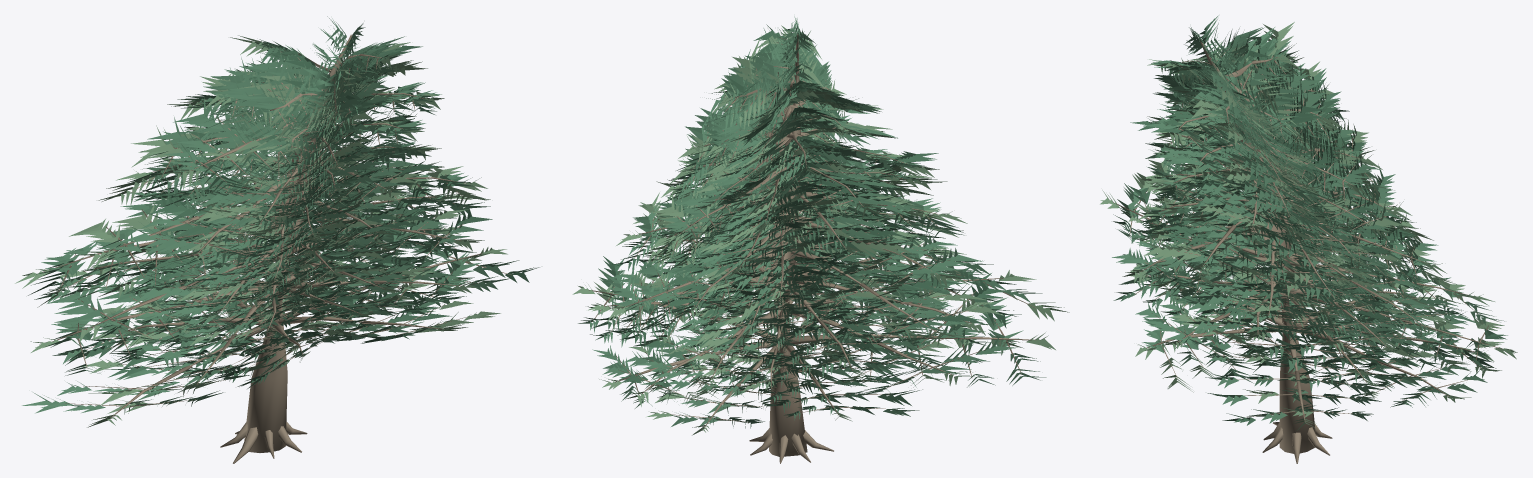
Rendered from cedar_8.glb.
3 renders of one model, left to right at view 1: azimuth 30°, elevation 25°; view 2: azimuth 150°, elevation 25°; view 3: azimuth 270°, elevation 25°, orthographic. The views are drawn at different scales.
Parts seen in each view (by area): view 1: tree_conifer_ConiferLeaf, tree_conifer_ConiferLeafLight, tree_conifer_ConiferLeafDark, tree_conifer_ConiferBark; view 2: tree_conifer_ConiferLeaf, tree_conifer_ConiferLeafLight, tree_conifer_ConiferLeafDark, tree_conifer_ConiferBark; view 3: tree_conifer_ConiferLeaf, tree_conifer_ConiferLeafLight, tree_conifer_ConiferLeafDark, tree_conifer_ConiferBark.
Part boxes in pixels (x1,y1,x2,y2): tree_conifer_ConiferLeaf: (22,16,519,414); tree_conifer_ConiferLeafLight: (15,35,507,427); tree_conifer_ConiferLeafDark: (28,36,539,388); tree_conifer_ConiferBark: (43,34,511,463); tree_conifer_ConiferLeaf: (578,16,1046,427); tree_conifer_ConiferLeafLight: (572,25,1069,435); tree_conifer_ConiferLeafDark: (591,24,1021,428); tree_conifer_ConiferBark: (589,34,1035,463); tree_conifer_ConiferLeaf: (1112,15,1504,423); tree_conifer_ConiferLeafLight: (1100,22,1517,430); tree_conifer_ConiferLeafDark: (1113,30,1507,425); tree_conifer_ConiferBark: (1113,39,1502,463).
Size of the model in its own units: 13.59 by 11.35 by 9.75.
